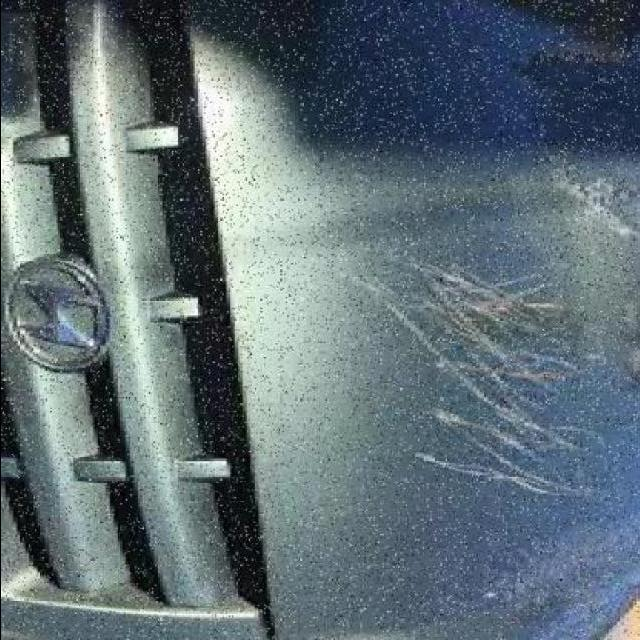bonnet-dent: (133, 93, 640, 600)
